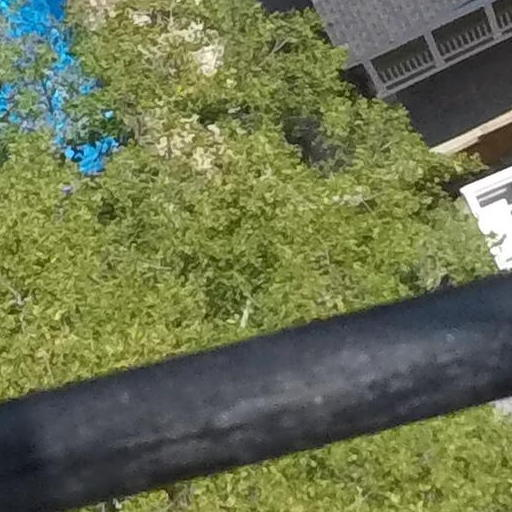pool: (4, 3, 105, 196)
